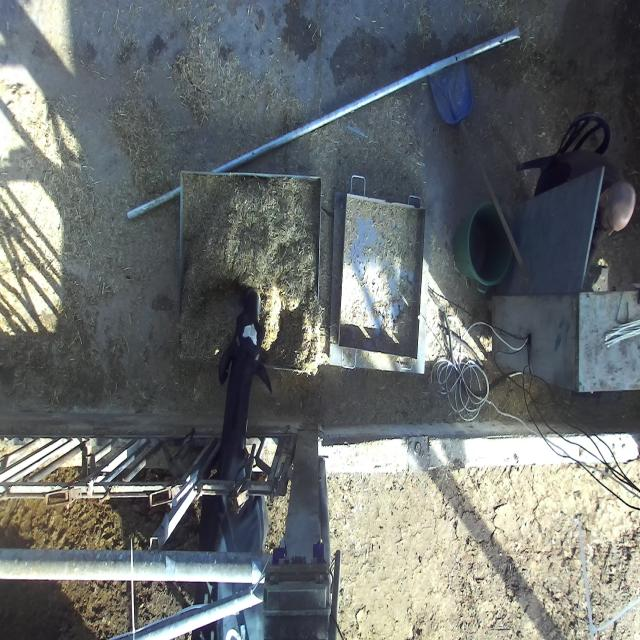cow: (218, 291, 273, 396)
